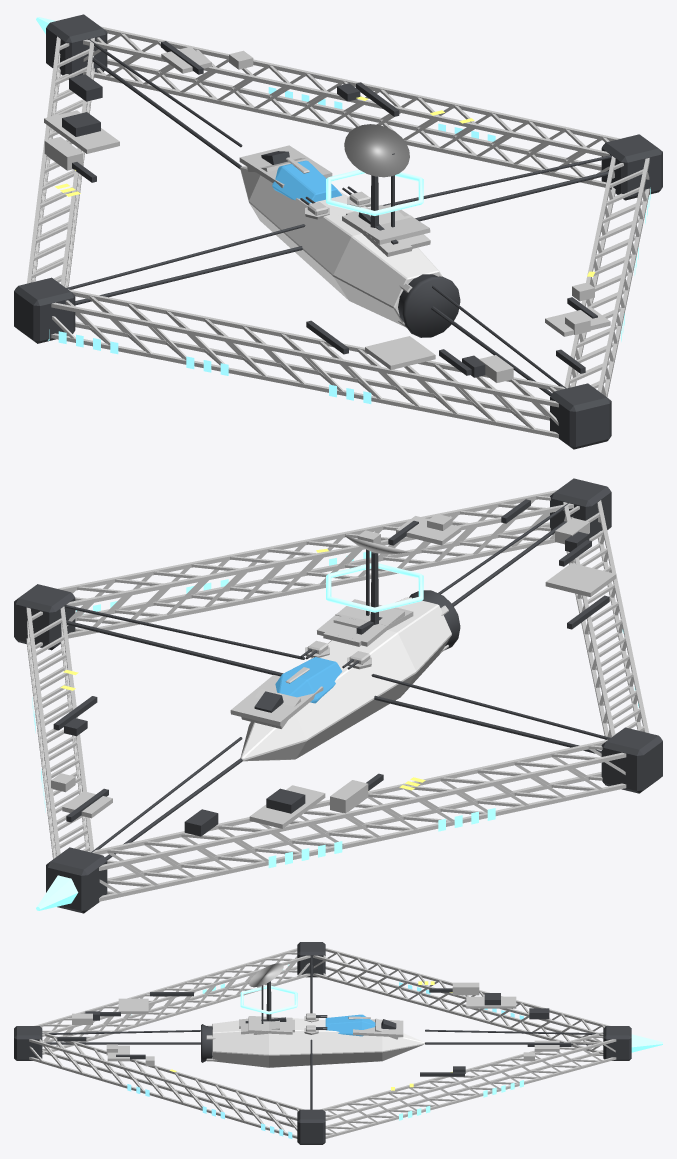
Rendered from sokol.glb.
The picture shows the model from 3 angles, top to bottom: view 1: azimuth 30°, elevation 25°; view 2: azimuth 150°, elevation 25°; view 3: azimuth 270°, elevation 25°; orthographic projection. The views are drawn at different scales.
Parts seen in each view (by area): view 1: Ферма, Ферма.002, Капсула, Накладные_плиты, Ферма.001, Ферма.003, Механика, Узел_рамы.002, Узел_рамы.003, Кожух_дюзы, Антенна_тарелка, Узел_рамы.001 (+10 smaller); view 2: Ферма.003, Ферма.001, Капсула, Накладные_плиты, Ферма, Ферма.002, Механика, Узел_рамы.003, Узел_рамы.001, Узел_рамы, Узел_рамы.002, Кабина (+10 smaller); view 3: Капсула, Ферма, Ферма.001, Ферма.002, Ферма.003, Накладные_плиты, Механика, Узел_рамы.001, Узел_рамы, Узел_рамы.002, Решётки, Узел_рамы.003 (+9 smaller).
Boxes of the visible parts, x1,y1,x2,y2 form: Ферма: (83,26,620,187); Ферма.002: (51,289,563,438); Капсула: (240,166,441,326); Накладные_плиты: (44,46,610,382); Ферма.001: (564,156,649,396); Ферма.003: (27,36,94,287); Механика: (62,41,597,377); Узел_рамы.002: (550,383,611,449); Узел_рамы.003: (14,277,75,343); Кожух_дюзы: (398,274,460,337); Антенна_тарелка: (344,124,409,177); Узел_рамы.001: (601,134,662,200); Ферма.003: (88,739,626,901); Ферма.001: (57,490,573,638); Капсула: (240,597,451,761); Накладные_плиты: (51,514,616,828); Ферма: (26,606,94,859); Ферма.002: (563,500,648,739); Механика: (53,499,609,836); Узел_рамы.003: (601,727,662,793); Узел_рамы.001: (14,584,75,650); Узел_рамы: (46,847,107,913); Узел_рамы.002: (550,478,611,538); Кабина: (275,657,342,703); Капсула: (212,1016,424,1067); Ферма: (320,1032,616,1138); Ферма.001: (29,1032,304,1138); Ферма.002: (34,948,310,1054); Ферма.003: (313,948,609,1053); Накладные_плиты: (72,982,559,1066); Механика: (57,985,571,1076); Узел_рамы.001: (297,1109,325,1144); Узел_рамы: (603,1026,631,1060); Узел_рамы.002: (14,1026,42,1060); Решётки: (127,964,523,1138); Узел_рамы.003: (297,942,325,977).
Bounding box in the file's own units: 1.5 × 0.3679 × 2.29.
